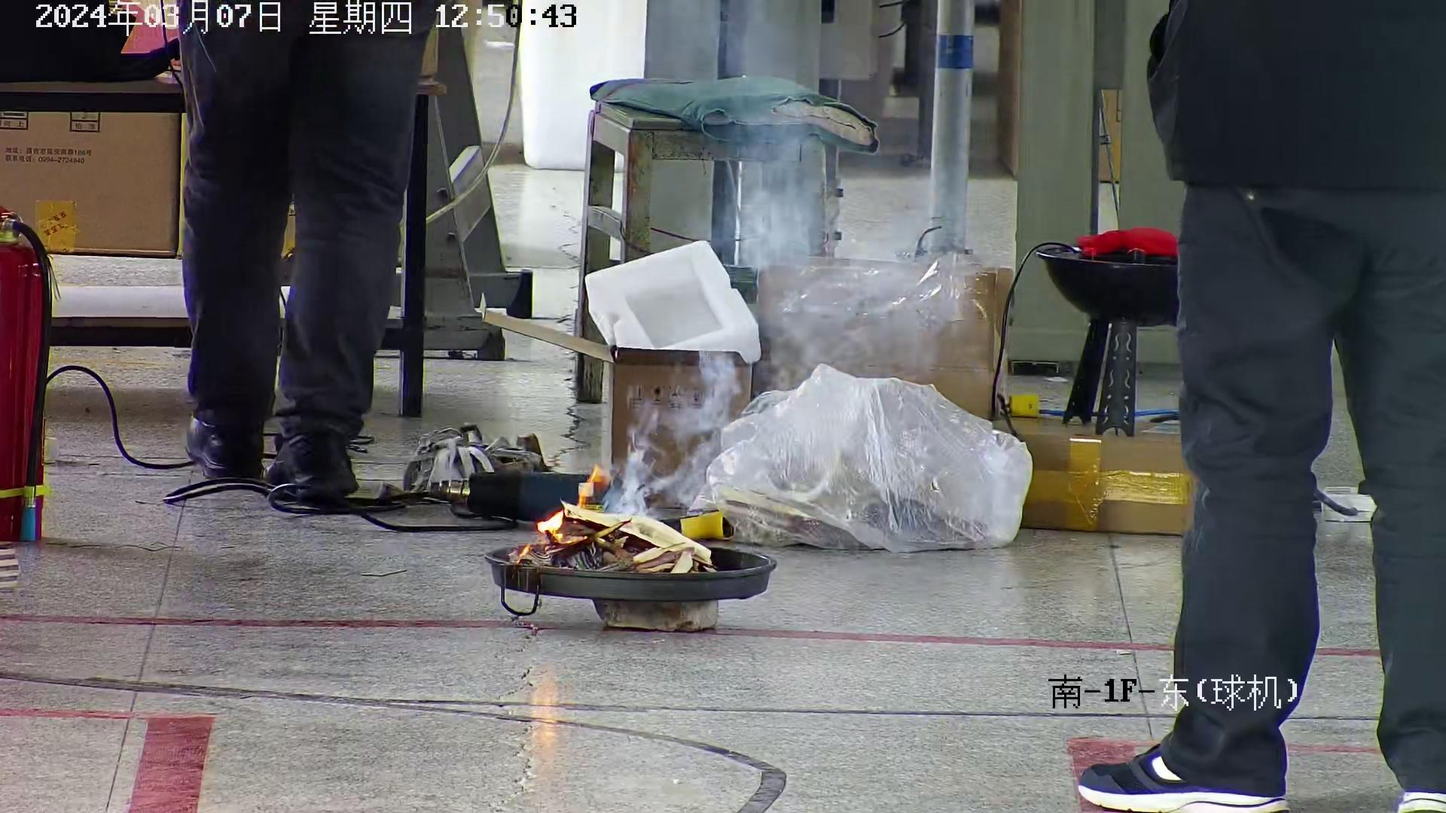fire: (536, 465, 608, 544)
smoke: (626, 0, 977, 508)
